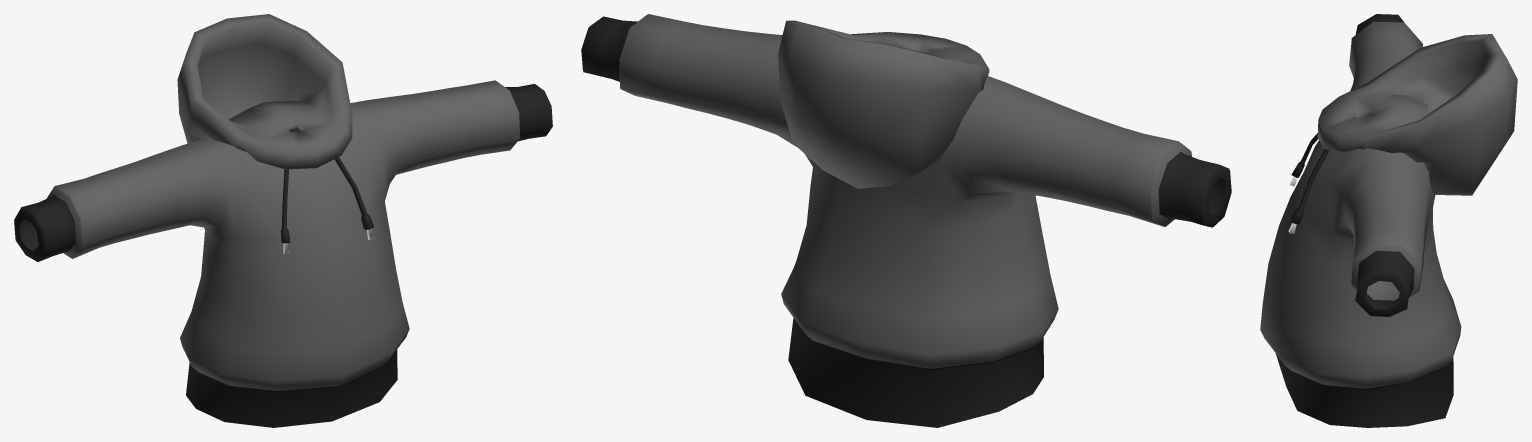
The model's file is Outerwear_Black_001.glb.
3 renders of one model, left to right at view 1: azimuth 30°, elevation 25°; view 2: azimuth 150°, elevation 25°; view 3: azimuth 270°, elevation 25°, orthographic. The views are drawn at different scales.
Visible parts, largest first — view 1: Outerwear_Black_001; view 2: Outerwear_Black_001; view 3: Outerwear_Black_001.
Part boxes in pixels (<box>): Outerwear_Black_001: <box>14,14,552,427</box>; Outerwear_Black_001: <box>581,14,1231,427</box>; Outerwear_Black_001: <box>1260,14,1517,427</box>.
Size of the model in its own units: 1.27 by 0.7836 by 0.5333.
1 material, 1 textured.
